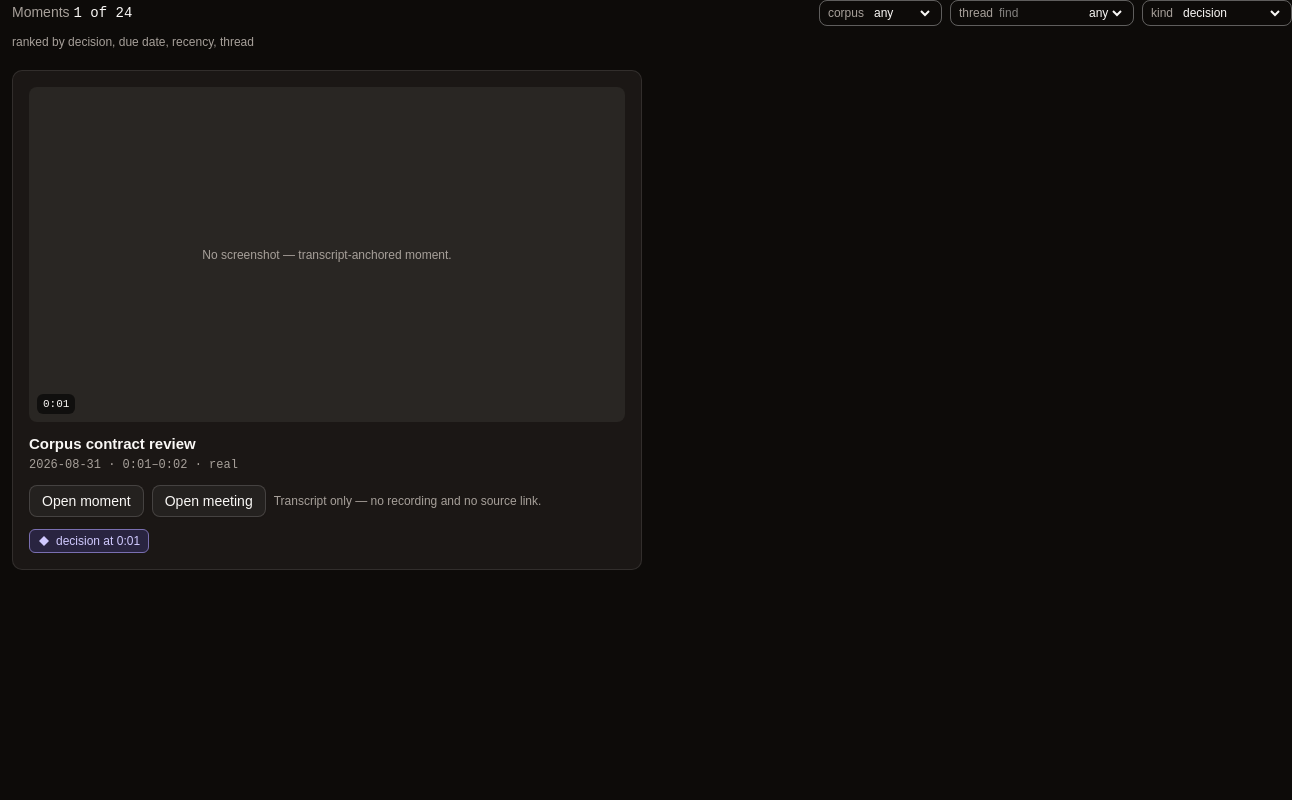
Test: C2/C6 corpus-scoped feed state › retains a distinct corpus denominator when a filtered refresh fails
Expected: the text with test id "moments-count" reads "1 of 24", [74, 5, 132, 21]
Select "scripted" in the dropdown with test id "filter-corpus": (902, 13) [870, 5, 933, 21]
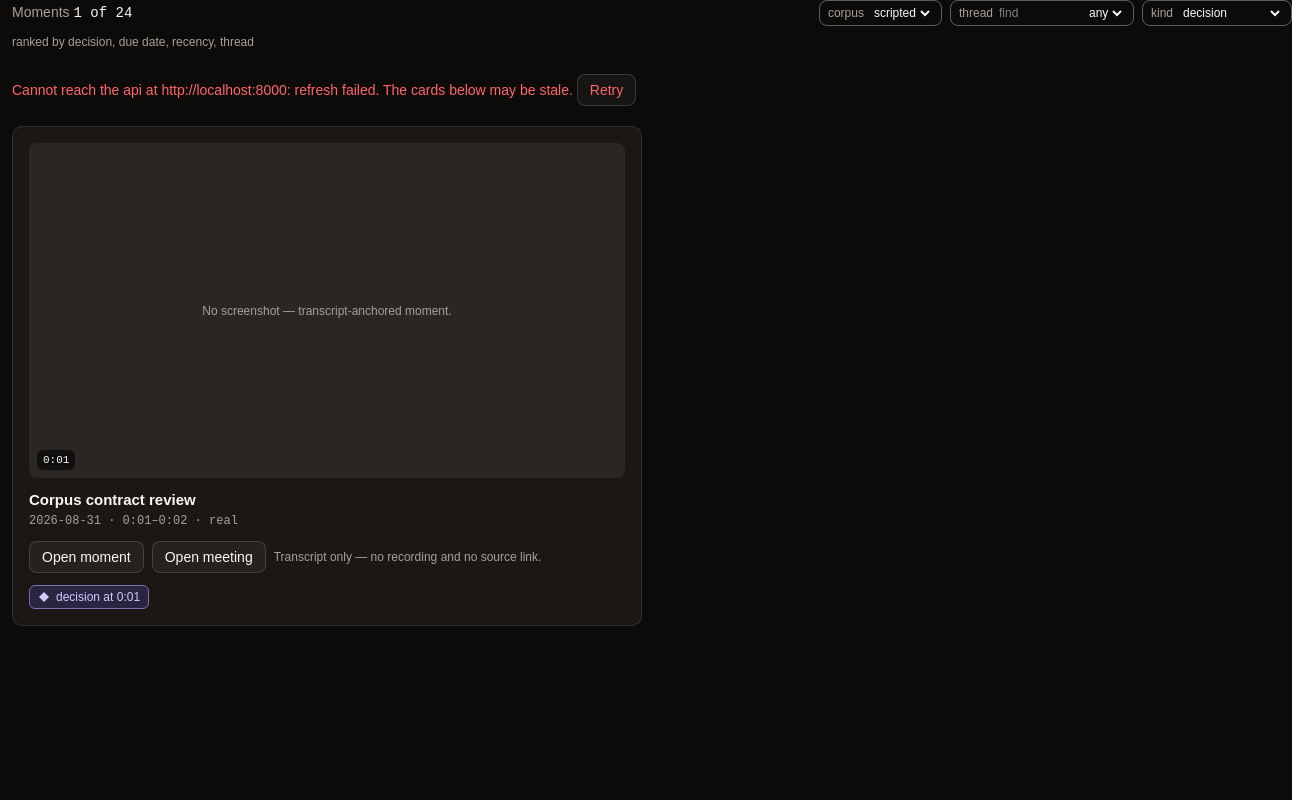
Expected: the text with test id "moments-count" reads "1 of 24", [74, 5, 132, 21]
Now the message with test id "moments-error" shows "refresh failed", box [294, 82, 375, 98]
